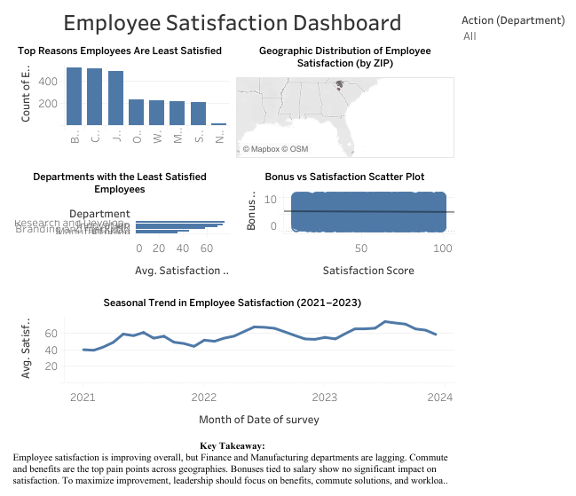

The dashboard page shown, as its layout file describes it:
{"tool":"tableau","page":{"name":"Employee Satisfaction Dashboard","canvas":[650,860],"ordinal":0},"visuals":[{"type":"title","box":[8,12.3,508,49.1]},{"type":"filter","title":"Patterns in the “least satisfied with” reasons","param":"[federated.030ylir0zkef3g149v6oa09hq2qt].[Action (Department)]","box":[516,12.3,126,79.9]},{"type":"worksheet","title":"Patterns in the “least satisfied with” reasons","mark":"Automatic","rows":["EmployeeID"],"cols":["Least satisfied with"],"box":[8,61.4,254,218]},{"type":"worksheet","title":"Geography Map","mark":"Automatic","box":[262,61.4,254,218]},{"type":"worksheet","title":"Least satisfied departments","mark":"Automatic","rows":["Department"],"cols":["Satisfaction Score"],"box":[8,279.5,254,218.1]},{"type":"worksheet","title":"Bonus vs Satisfaction Scatter Plot","mark":"Automatic","rows":["Bonus as a percent of salary"],"cols":["Satisfaction Score"],"box":[262,279.5,254,218.1]},{"type":"worksheet","title":"Seasonal trend & improvement","mark":"Automatic","rows":["Satisfaction Score"],"cols":["Date of survey"],"box":[8,497.5,508,258]},{"type":"text","box":[8,755.6,508,92.1]}]}

Visuals, with their boxes on the page's 650x860 design canvas (x1, y1, x2, y2). These are canvas units, not pixel positions in the 576x496 screenshot, which may show the page scaled, cropped or inside an application window:
title: 8, 12, 516, 61
"Patterns in the “least satisfied with” reasons" filter: 516, 12, 642, 92
"Patterns in the “least satisfied with” reasons" worksheet: 8, 61, 262, 279
"Geography Map" worksheet: 262, 61, 516, 279
"Least satisfied departments" worksheet: 8, 280, 262, 498
"Bonus vs Satisfaction Scatter Plot" worksheet: 262, 280, 516, 498
"Seasonal trend & improvement" worksheet: 8, 498, 516, 756
text: 8, 756, 516, 848
